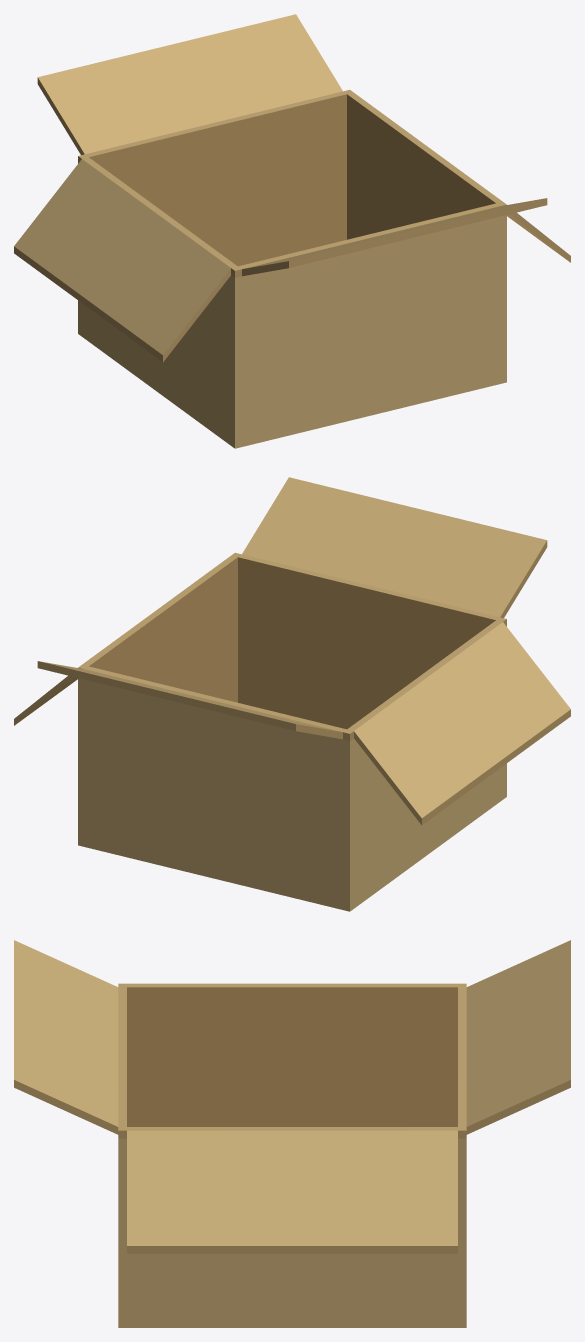
File: cardboard_box (1).glb
3 renders of one model, top to bottom at view 1: azimuth 30°, elevation 25°; view 2: azimuth 150°, elevation 25°; view 3: azimuth 270°, elevation 25°, orthographic. The views are drawn at different scales.
Parts seen in each view (by area): view 1: Cardboard box; view 2: Cardboard box; view 3: Cardboard box.
Boxes of the visible parts, <box> form: Cardboard box: <box>14,14,570,448</box>; Cardboard box: <box>14,477,570,911</box>; Cardboard box: <box>14,940,570,1327</box>.
Size of the model in its own units: 3 by 1.55 by 3.2.
Materials: 1 (1 with a texture image).
